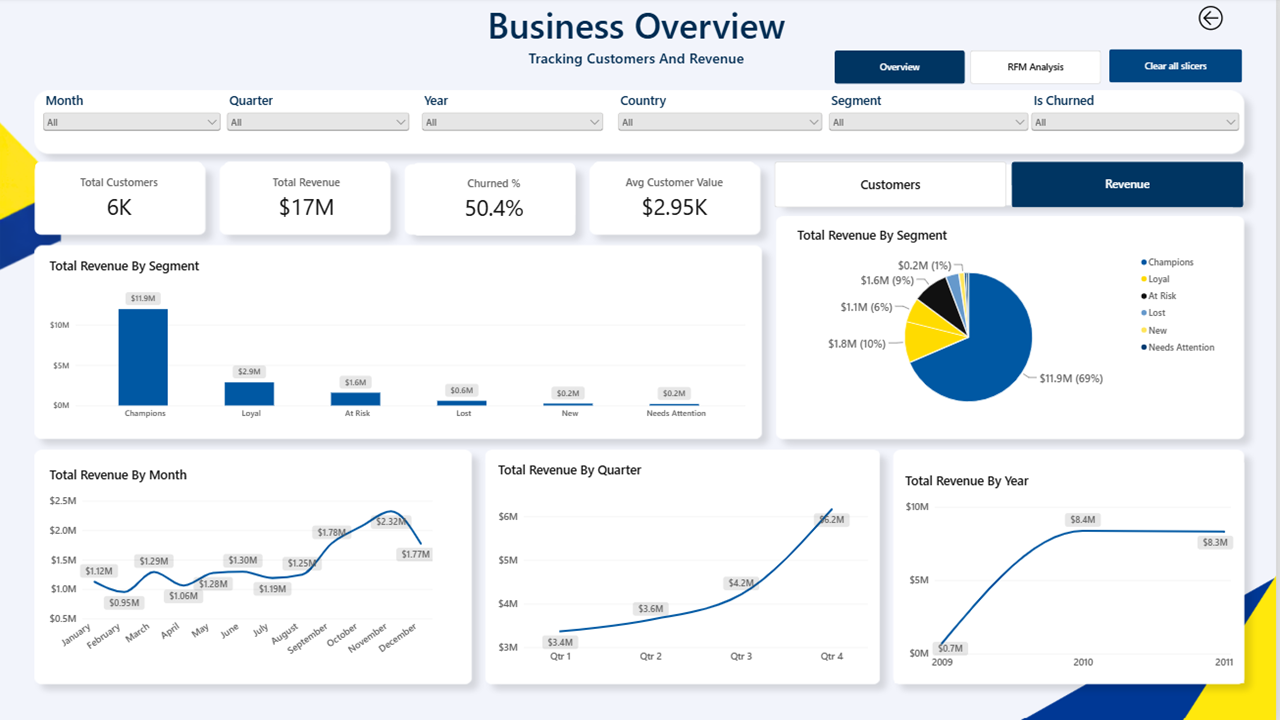

The dashboard page shown, as its layout file describes it:
{"tool":"powerbi","page":{"name":"Overview","canvas":[1920,1080],"ordinal":0},"visuals":[{"type":"cardVisual","fields":{"Data":["Sheet1.Total_Customers"]},"box":[57.1,244.8,252.1,108.6],"z":0},{"type":"lineChart","title":"Total Customers By Month","fields":{"Category":["Sheet1.InvoiceDate.Variation.Date Hierarchy.Month"],"Y":["Sheet1.Total_Customers"]},"box":[69.8,678.8,636.8,336.8],"z":0,"group":"g1"},{"type":"cardVisual","fields":{"Data":["Sheet1.Avg Customer Value"]},"box":[894.5,244.8,244.8,108.6],"z":1000},{"type":"lineChart","title":"Total Customers By Quarter","fields":{"Category":["Sheet1.InvoiceDate.Variation.Date Hierarchy.Quarter"],"Y":["Sheet1.Total_Customers"]},"box":[726.9,675.1,590.8,336.8],"z":1000,"group":"g1"},{"type":"cardVisual","fields":{"Data":["Sheet1.Churned %"]},"box":[623.9,246.6,244.8,108.6],"z":2000},{"type":"columnChart","title":"Total Customers By Segment","fields":{"Category":["Sheet1.Segment"],"Y":["Sheet1.Total_Customers"]},"box":[57,364.3,1091.4,290.8],"z":2000,"group":"g1"},{"type":"cardVisual","fields":{"Data":["Sheet1.Total_Revenue"]},"box":[340.5,244.8,248.5,108.6],"z":3000},{"type":"lineChart","title":"Total Customers By Year","fields":{"Category":["Sheet1.InvoiceDate.Variation.Date Hierarchy.Year"],"Y":["Sheet1.Total_Customers"]},"box":[1337.9,677,530.1,335],"z":3000,"group":"g1"},{"type":"slicer","fields":{"Values":["Sheet1.InvoiceDate.Variation.Date Hierarchy.Month"]},"box":[64.4,139.9,276.1,88.3],"z":4000},{"type":"columnChart","title":"Total Retention By Segment","fields":{"Category":["Sheet1.Segment"],"Series":["Sheet1.IsChurned"],"Y":["Sheet1.Total_Customers"]},"box":[1179.6,335.4,692,320.2],"z":4000,"group":"g1"},{"type":"slicer","fields":{"Values":["Sheet1.IsChurned"]},"box":[1547.9,139.9,322.1,88.3],"z":5000},{"type":"slicer","fields":{"Values":["Sheet1.Segment"]},"box":[1244.2,139.9,309.2,88.3],"z":6000},{"type":"slicer","fields":{"Values":["Sheet1.Country"]},"box":[927.6,139.9,316.6,88.3],"z":7000},{"type":"slicer","fields":{"Values":["Sheet1.InvoiceDate.Variation.Date Hierarchy.Year"]},"box":[633.1,139.9,281.6,88.3],"z":8000},{"type":"slicer","fields":{"Values":["Sheet1.InvoiceDate.Variation.Date Hierarchy.Quarter"]},"box":[340.5,139.9,283.4,88.3],"z":9000},{"type":"group","id":"g1","title":"Customers","box":[57,335.4,1814.7,680.2],"z":11000},{"type":"bookmarkNavigator","box":[1166.9,244.8,704.9,68.1],"z":12000},{"type":"actionButton","box":[1772.4,0,99.4,62.6],"z":13000},{"type":"actionButton","box":[1669.3,77.3,200,50],"z":14000},{"type":"textbox","box":[587.3,3.7,745.4,123.3],"z":15000},{"type":"pageNavigator","box":[1257.1,79.1,400,50],"z":15001}]}

Visuals, with their boxes in screenshot pixels (x1, y1, x2, y2), scaled from the page's 1920x1080 canvas onto the 1280x720 screenshot:
cardVisual - Sheet1.Total_Customers: BBox(38, 163, 206, 236)
"Total Customers By Month" lineChart: BBox(47, 453, 471, 677)
cardVisual - Sheet1.Avg Customer Value: BBox(596, 163, 760, 236)
"Total Customers By Quarter" lineChart: BBox(485, 450, 878, 675)
cardVisual - Sheet1.Churned %: BBox(416, 164, 579, 237)
"Total Customers By Segment" columnChart: BBox(38, 243, 766, 437)
cardVisual - Sheet1.Total_Revenue: BBox(227, 163, 393, 236)
"Total Customers By Year" lineChart: BBox(892, 451, 1245, 675)
slicer - Sheet1.InvoiceDate.Variation.Date Hierarchy.Month: BBox(43, 93, 227, 152)
"Total Retention By Segment" columnChart: BBox(786, 224, 1248, 437)
slicer - Sheet1.IsChurned: BBox(1032, 93, 1247, 152)
slicer - Sheet1.Segment: BBox(829, 93, 1036, 152)
slicer - Sheet1.Country: BBox(618, 93, 829, 152)
slicer - Sheet1.InvoiceDate.Variation.Date Hierarchy.Year: BBox(422, 93, 610, 152)
slicer - Sheet1.InvoiceDate.Variation.Date Hierarchy.Quarter: BBox(227, 93, 416, 152)
"Customers" group: BBox(38, 224, 1248, 677)
bookmarkNavigator: BBox(778, 163, 1248, 209)
actionButton: BBox(1182, 0, 1248, 42)
actionButton: BBox(1113, 52, 1246, 85)
textbox: BBox(392, 2, 888, 85)
pageNavigator: BBox(838, 53, 1105, 86)
